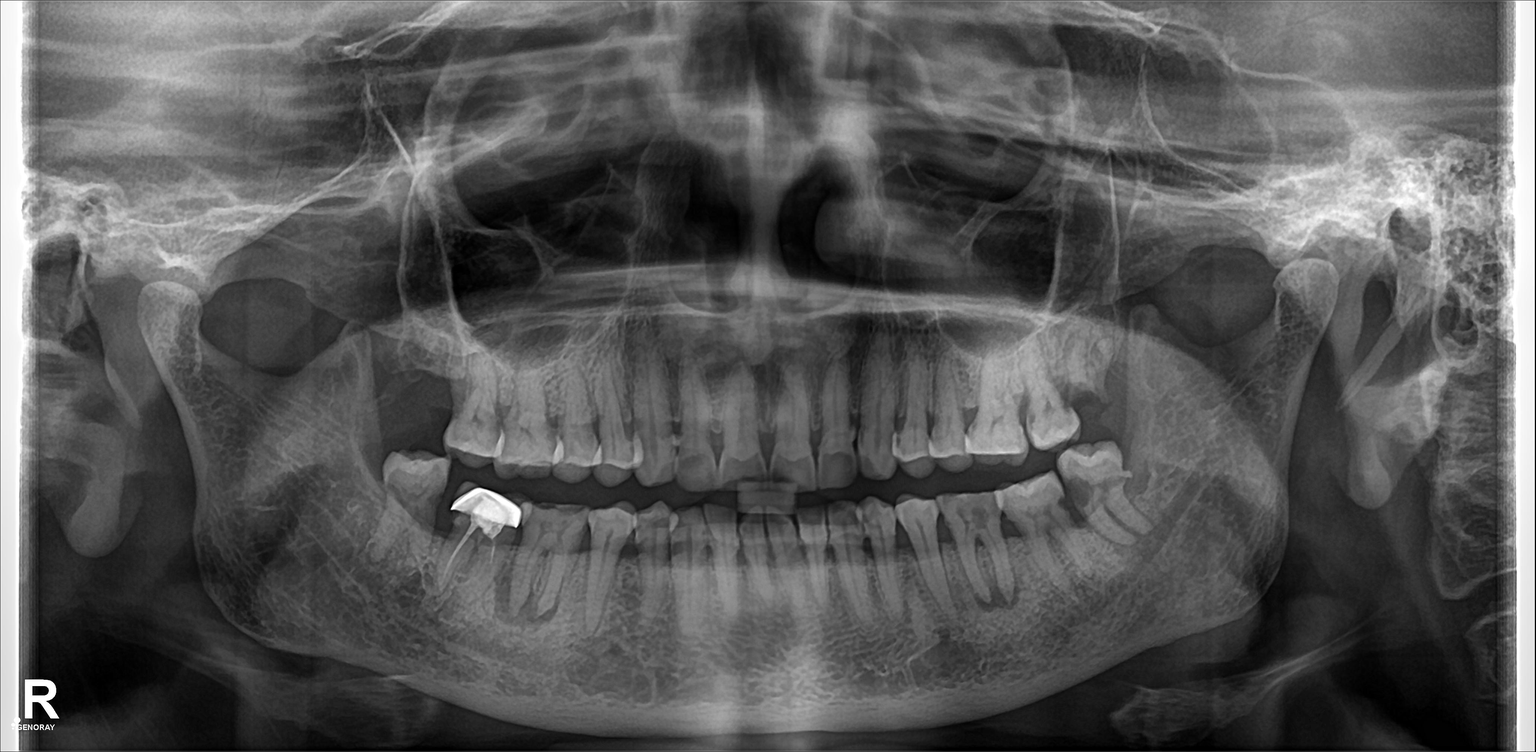Dental Caries: (1060, 471, 1097, 515)
Endodontically Treated Tooth: (454, 484, 514, 596)
Missing Tooth: (385, 335, 425, 448), (430, 344, 459, 441)
Periapical Lesion: (494, 526, 600, 629), (939, 521, 1037, 623)
Retained Root: (1061, 326, 1113, 408)
